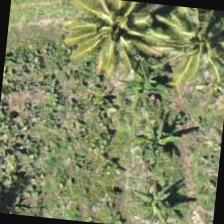Kelapa_Sawit: (49, 0, 148, 81), (148, 4, 223, 90)
